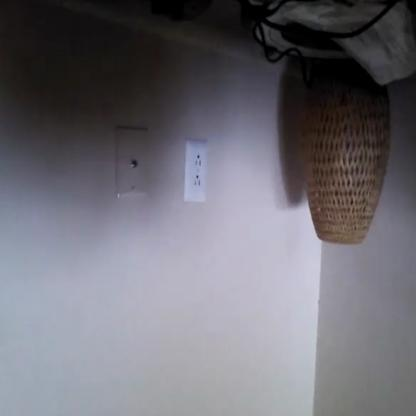OUTLET: (184, 141, 208, 202)
